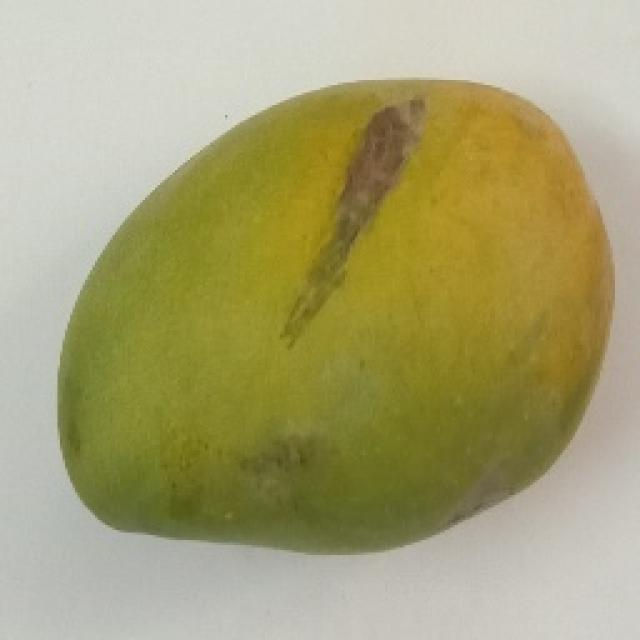defective: (55, 75, 615, 555)
